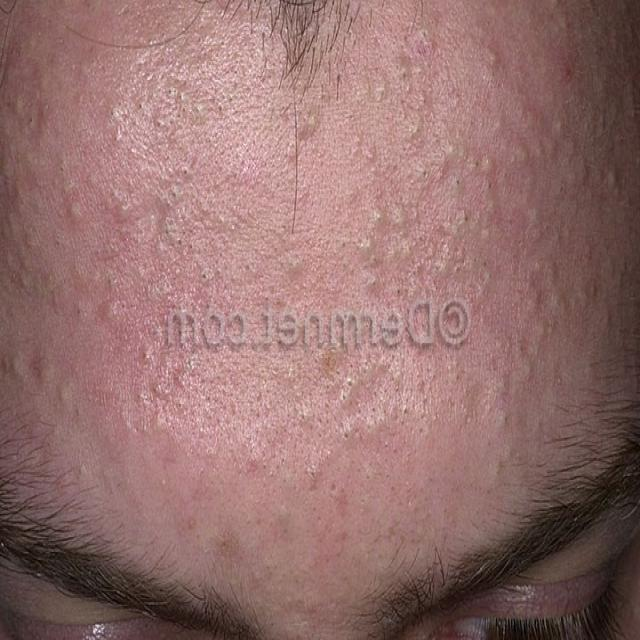acne: (377, 56, 616, 287), (40, 298, 208, 406), (45, 150, 103, 222)
